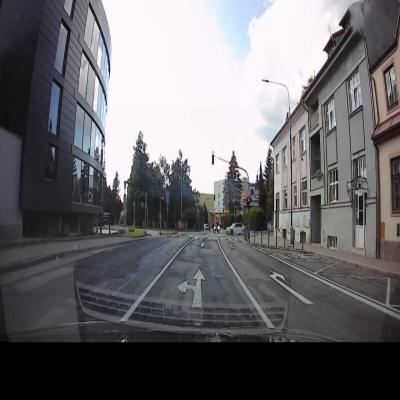clear-road: (221, 239, 400, 341), (75, 236, 186, 296), (148, 238, 248, 304)
